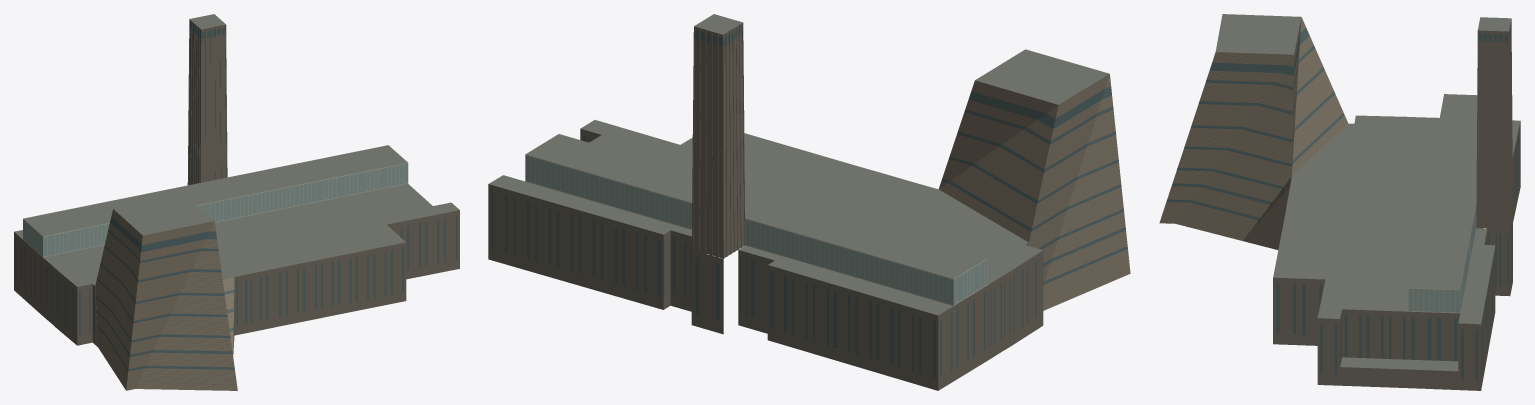
The model's file is tate-modern-near.glb.
3 views of the same model, side by side, from view 1: azimuth 30°, elevation 25°; view 2: azimuth 150°, elevation 25°; view 3: azimuth 270°, elevation 25° (orthographic). The views are drawn at different scales.
Parts seen in each view (by area): view 1: tate-modern-0-roof, tate-modern-0-brick, tate-modern-0-extension, tate-modern-0-glass, tate-modern-0-lightbox, tate-modern-0-seam, tate-modern-0-frame; view 2: tate-modern-0-brick, tate-modern-0-roof, tate-modern-0-extension, tate-modern-0-glass, tate-modern-0-lightbox, tate-modern-0-seam, tate-modern-0-frame; view 3: tate-modern-0-roof, tate-modern-0-brick, tate-modern-0-extension, tate-modern-0-glass, tate-modern-0-seam, tate-modern-0-lightbox, tate-modern-0-frame.
Part boxes in pixels (box(x1,y1,x2,y2)): tate-modern-0-roof: box(14, 14, 459, 286); tate-modern-0-brick: box(14, 19, 459, 345); tate-modern-0-extension: box(95, 209, 237, 390); tate-modern-0-glass: box(15, 22, 457, 371); tate-modern-0-lightbox: box(23, 163, 407, 256); tate-modern-0-seam: box(95, 210, 237, 388); tate-modern-0-frame: box(23, 162, 408, 257); tate-modern-0-brick: box(488, 23, 1043, 390); tate-modern-0-roof: box(489, 14, 1109, 315); tate-modern-0-extension: box(939, 74, 1130, 310); tate-modern-0-glass: box(491, 26, 1127, 377); tate-modern-0-lightbox: box(525, 155, 987, 304); tate-modern-0-seam: box(940, 75, 1129, 308); tate-modern-0-frame: box(525, 154, 987, 305); tate-modern-0-roof: box(1215, 14, 1520, 371); tate-modern-0-brick: box(1273, 19, 1520, 390); tate-modern-0-extension: box(1159, 17, 1348, 249); tate-modern-0-glass: box(1166, 22, 1520, 380); tate-modern-0-seam: box(1161, 18, 1346, 238); tate-modern-0-lightbox: box(1408, 206, 1476, 312); tate-modern-0-frame: box(1408, 203, 1476, 313).
Size of the model in its own units: 172 by 99 by 123.
